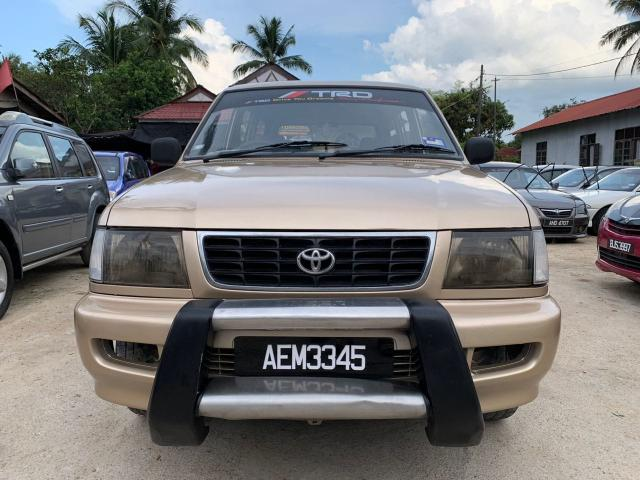License_Plate: (240, 339, 387, 382), (606, 235, 636, 261), (546, 217, 574, 231)
car: (75, 82, 561, 444), (466, 124, 593, 250), (598, 173, 640, 288)
